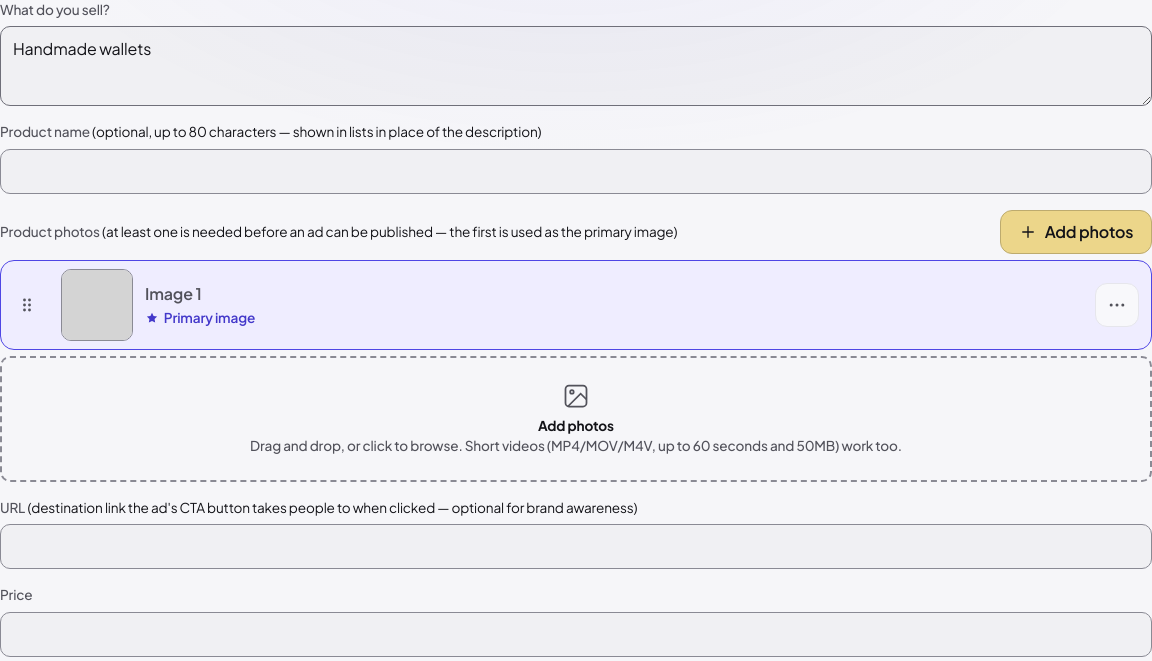
Test: ProductForm — edit mode live photo management › falls back to a generic message for a non-ApiError delete failure
Click the button named "More actions for Image 1" at (1117, 305), box [1095,283,1139,327]
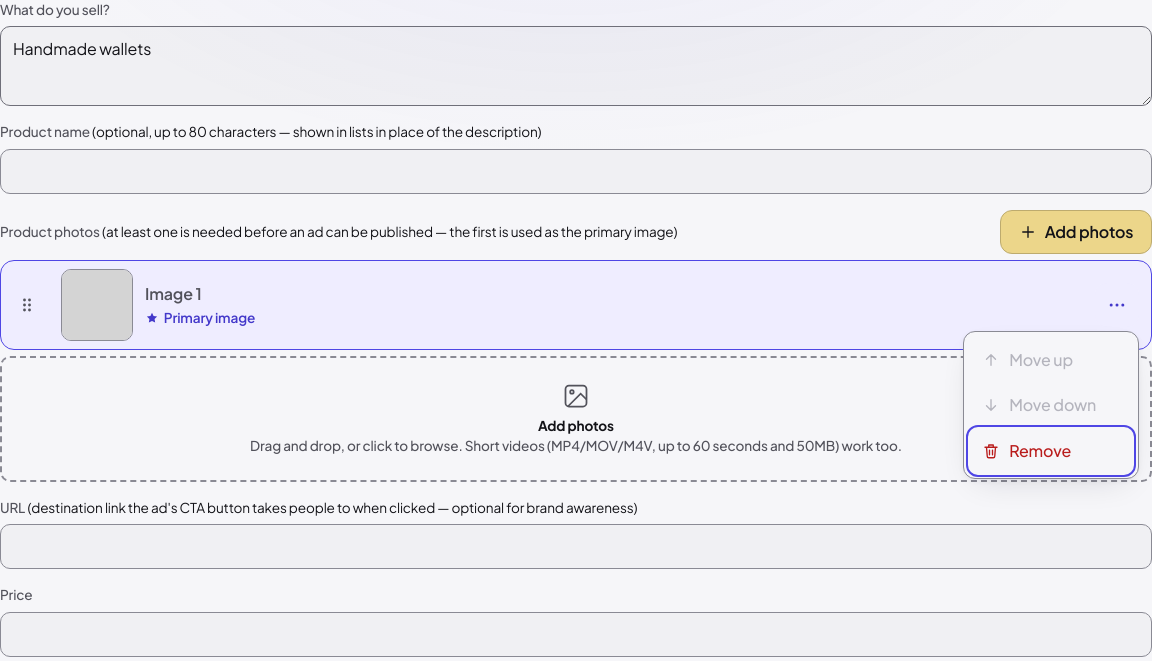
Click the menu item "Remove" at (1051, 451), box [970,429,1132,473]
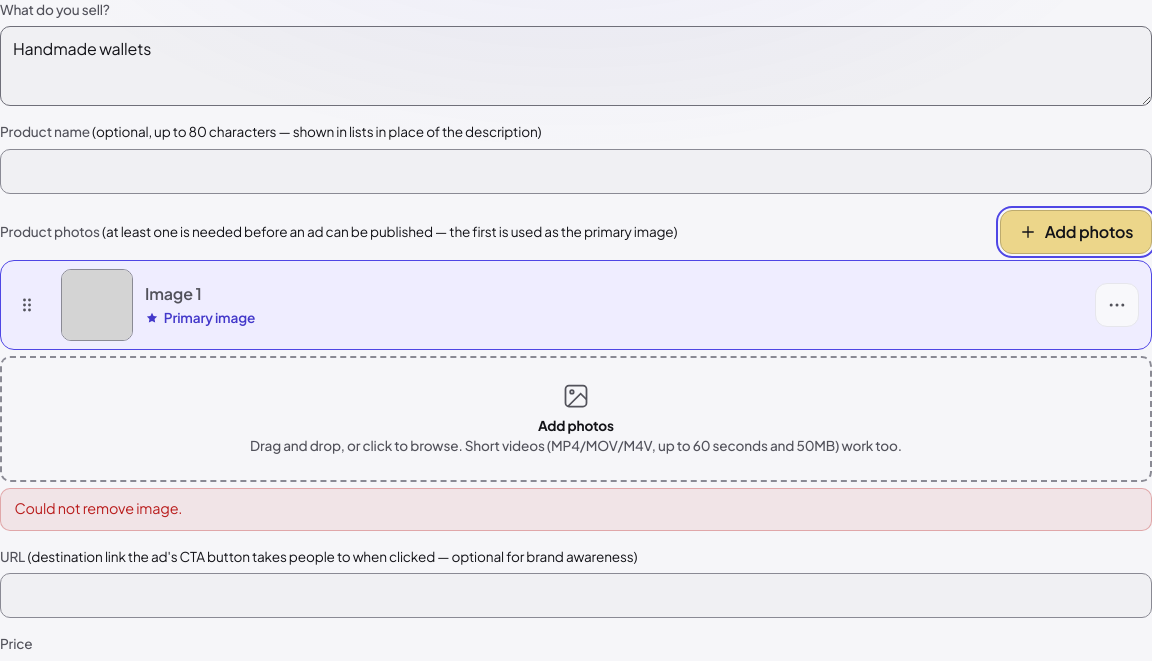
Expected: the message reads "Could not remove image.", [15,499,182,517]
